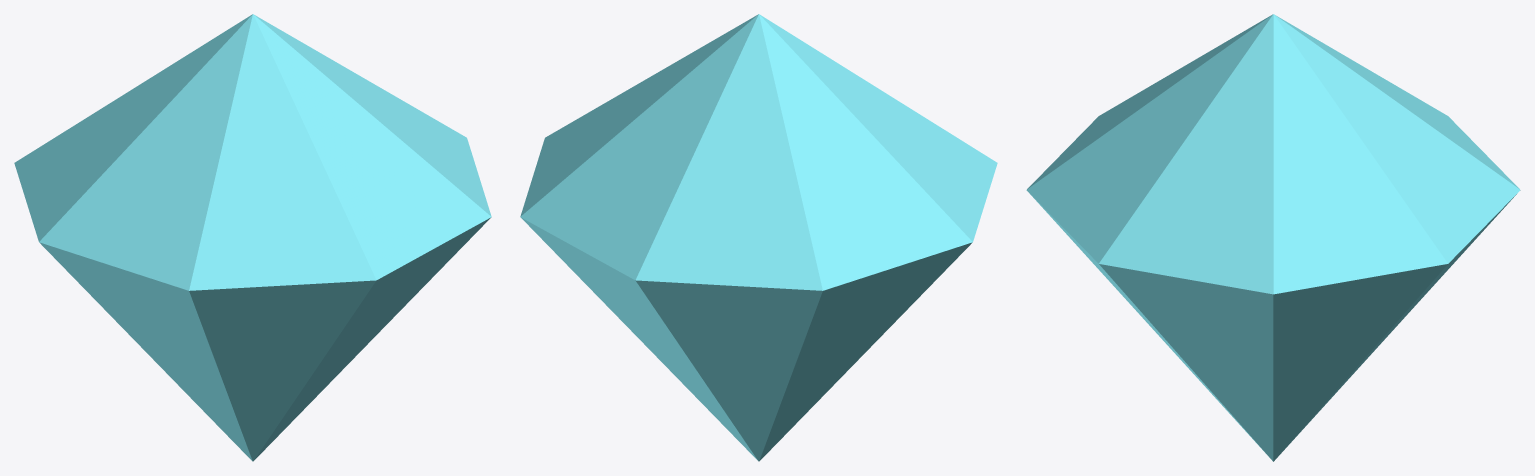
The model's file is gem.glb.
The picture shows the model from 3 angles, left to right: view 1: azimuth 30°, elevation 25°; view 2: azimuth 150°, elevation 25°; view 3: azimuth 270°, elevation 25°; orthographic projection.
Visible parts, largest first — view 1: gem; view 2: gem; view 3: gem.
Part boxes in pixels (x1=…): gem: x1=14, y1=14, x2=491, y2=461; gem: x1=520, y1=14, x2=997, y2=461; gem: x1=1026, y1=14, x2=1520, y2=461.
Size of the model in its own units: 0.56 by 0.56 by 0.56.
